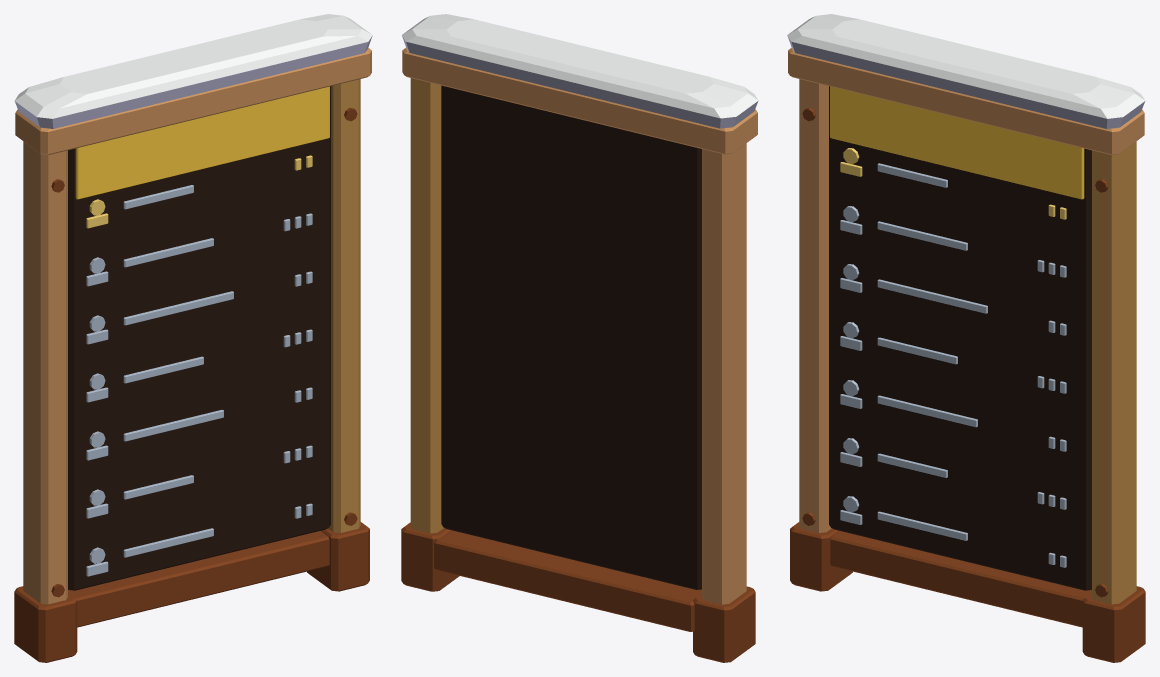
The model's file is Leaderboard02.glb.
The picture shows the model from 3 angles, left to right: view 1: azimuth 30°, elevation 25°; view 2: azimuth 150°, elevation 25°; view 3: azimuth 330°, elevation 25°; orthographic projection.
Parts seen in each view (by area): view 1: Leaderboard02; view 2: Leaderboard02; view 3: Leaderboard02.
Part boxes in pixels (x1,y1,x2,y2): Leaderboard02: (14,14,372,662); Leaderboard02: (401,14,758,662); Leaderboard02: (787,14,1145,662).
Size of the model in its own units: 1.69 by 2.69 by 0.2982.
1 material, 1 textured.
